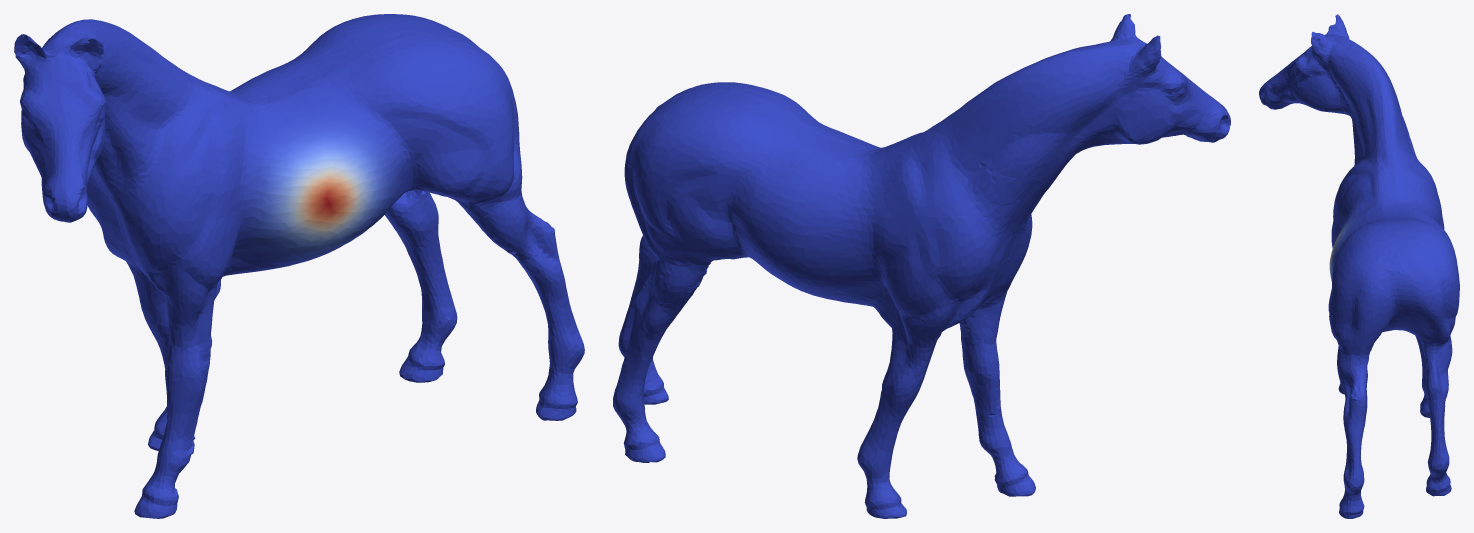
File: gamma0.001.obj
The picture shows the model from 3 angles, left to right: view 1: azimuth 30°, elevation 25°; view 2: azimuth 150°, elevation 25°; view 3: azimuth 270°, elevation 25°; orthographic projection. The views are drawn at different scales.
Bounding box in the file's own units: 0.1834 × 0.1529 × 0.084.
Materials: 1 (1 with a texture image).
